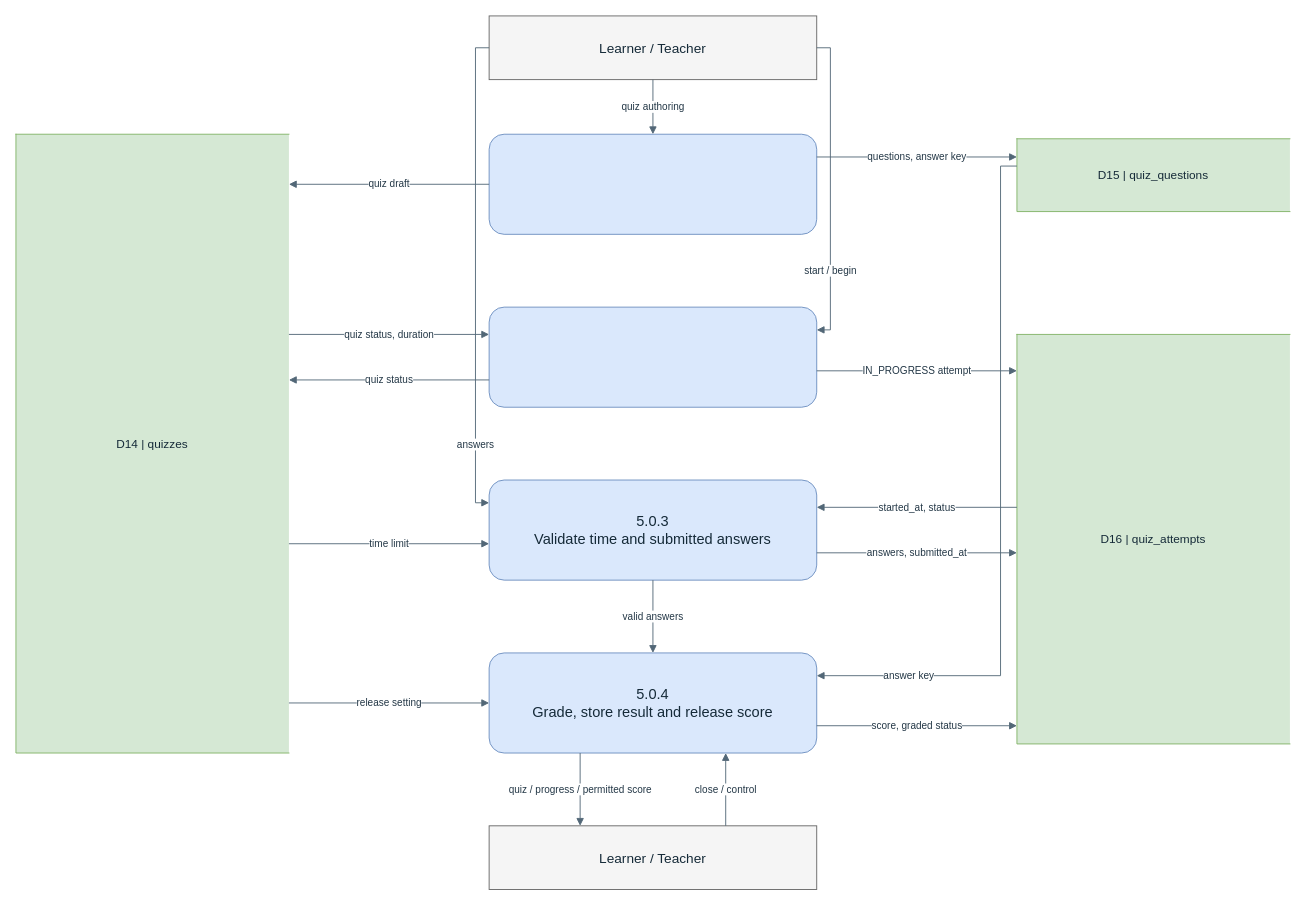
Image size: 1306x905. Some labels were removed from this diagram. Each missing label, with the box of its shape:
5.0.1 Author draft and questions: (488, 133, 817, 234)
5.0.2 Start quiz and create learner attempt: (488, 306, 817, 407)
